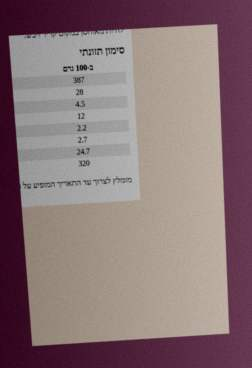carbs: (76, 110, 86, 121)
energy: (72, 74, 86, 86)
fat: (74, 87, 85, 98)
protein: (75, 146, 91, 157)
